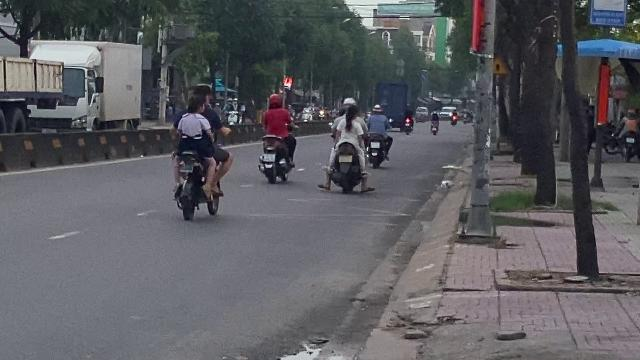motorcyclist: (167, 82, 237, 228)
nohelmet: (184, 95, 204, 112)
